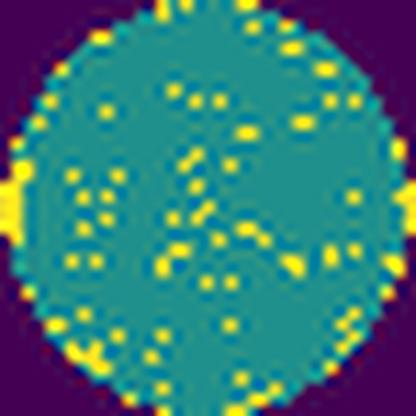Edge-Loc: (0, 155, 36, 251), (387, 174, 416, 238)
